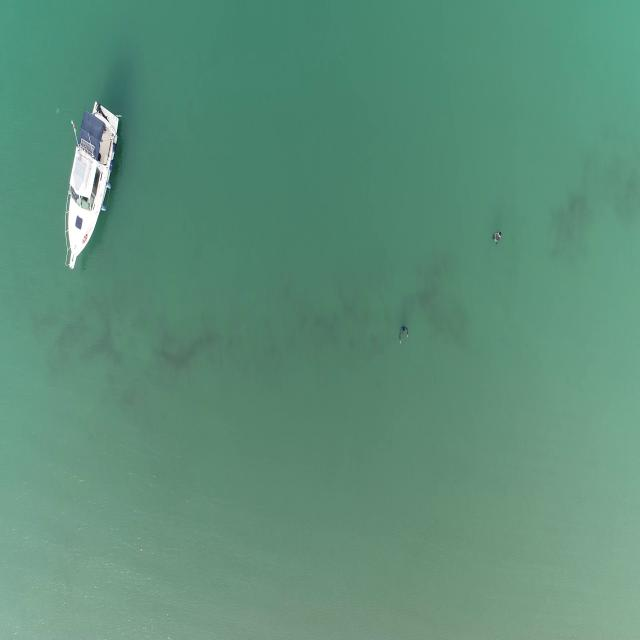boat: (60, 100, 120, 275)
person: (398, 323, 412, 346), (490, 228, 502, 254)
